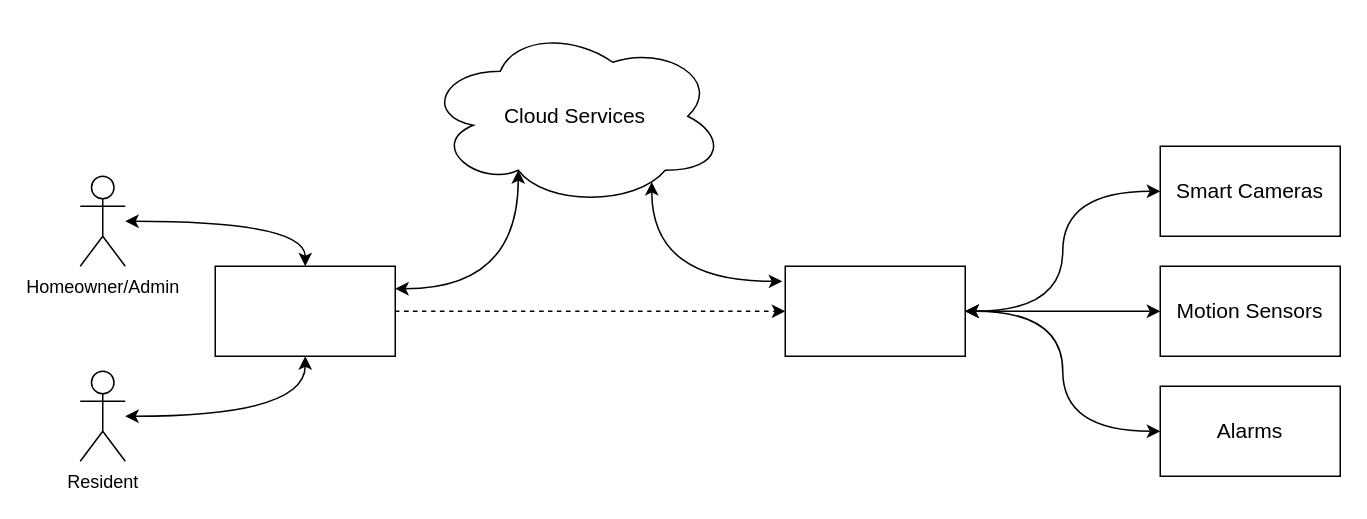
This 1367x519 diagram has some shape labels left out. The shapes that lost their labels are listed below. From the top down, each one's centre as x and y in pixels, then its label:
(x=304, y=310): Mobile App
(x=874, y=310): Central Control Unit
